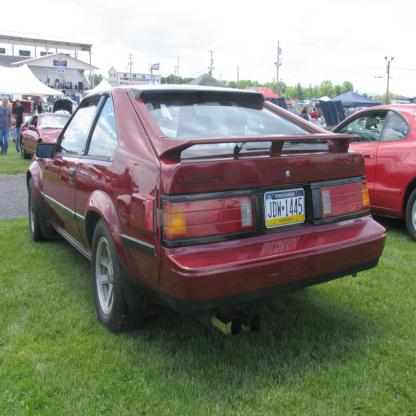Car: (10, 86, 416, 334)
